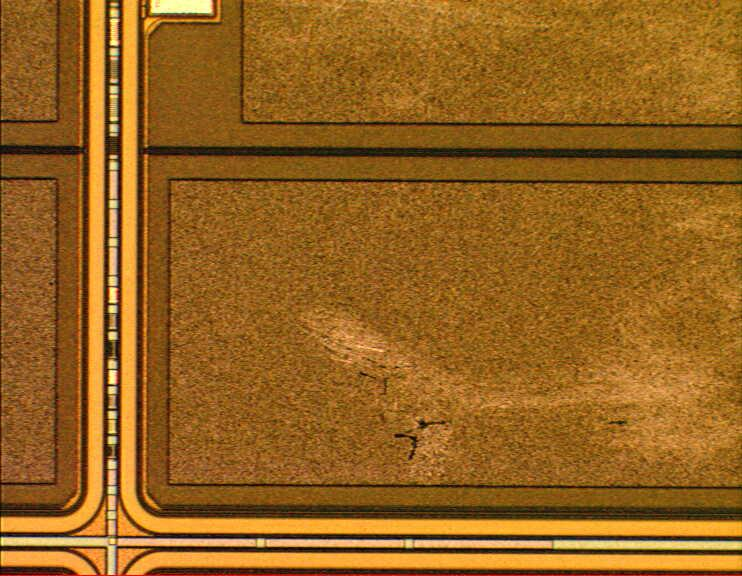SCRATCH: (270, 189, 742, 491)
